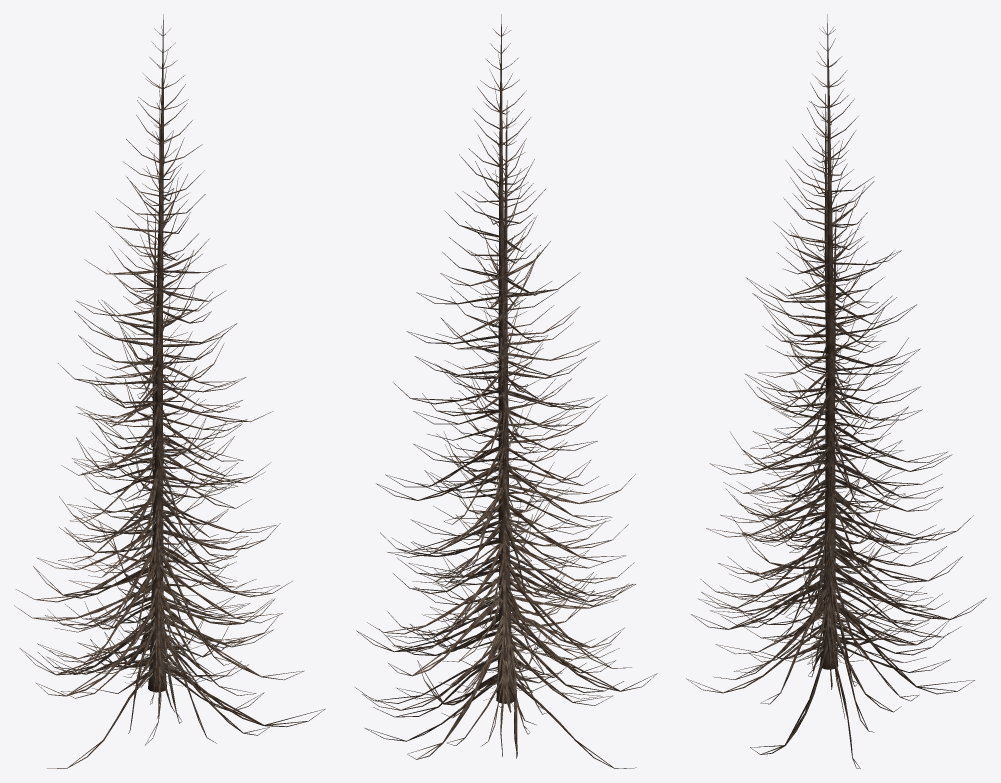
File: spruce_wood.glb
3 renders of one model, left to right at view 1: azimuth 30°, elevation 25°; view 2: azimuth 150°, elevation 25°; view 3: azimuth 270°, elevation 25°, orthographic. The views are drawn at different scales.
Parts seen in each view (by area): view 1: spruce_c, spruce_a, spruce_c_l1, spruce_a_l1, spruce_b, spruce_b_l1, spruce_c_l2, spruce_dead_a; view 2: spruce_c, spruce_a, spruce_c_l1, spruce_a_l1, spruce_b, spruce_b_l1, spruce_c_l2, spruce_dead_a; view 3: spruce_c, spruce_c_l1, spruce_a, spruce_a_l1, spruce_b, spruce_b_l1, spruce_c_l2, spruce_dead_a.
Boxes of the visible parts, box(x1,y1,x2,y2) form: spruce_c: box(14, 14, 325, 743); spruce_a: box(37, 100, 279, 768); spruce_c_l1: box(21, 20, 320, 736); spruce_a_l1: box(37, 114, 279, 768); spruce_b: box(37, 208, 255, 745); spruce_b_l1: box(38, 228, 249, 744); spruce_c_l2: box(20, 83, 325, 725); spruce_dead_a: box(117, 296, 213, 687); spruce_c: box(356, 14, 657, 759); spruce_a: box(355, 100, 635, 768); spruce_c_l1: box(357, 16, 656, 759); spruce_a_l1: box(362, 114, 636, 768); spruce_b: box(396, 219, 610, 746); spruce_b_l1: box(397, 218, 610, 740); spruce_c_l2: box(361, 27, 643, 753); spruce_dead_a: box(457, 303, 558, 691); spruce_c: box(691, 14, 986, 754); spruce_c_l1: box(696, 25, 982, 754); spruce_a: box(687, 94, 950, 768); spruce_a_l1: box(686, 136, 949, 768); spruce_b: box(716, 203, 932, 700); spruce_b_l1: box(715, 214, 912, 719); spruce_c_l2: box(692, 40, 981, 747); spruce_dead_a: box(776, 328, 876, 662).
Bounding box in the file's own units: 10.02 × 25.92 × 10.01.
2 materials, 2 textured.
